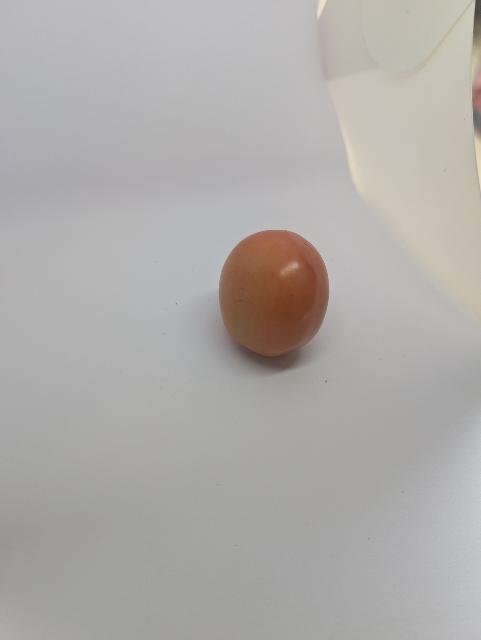turning: (216, 223, 334, 368)
